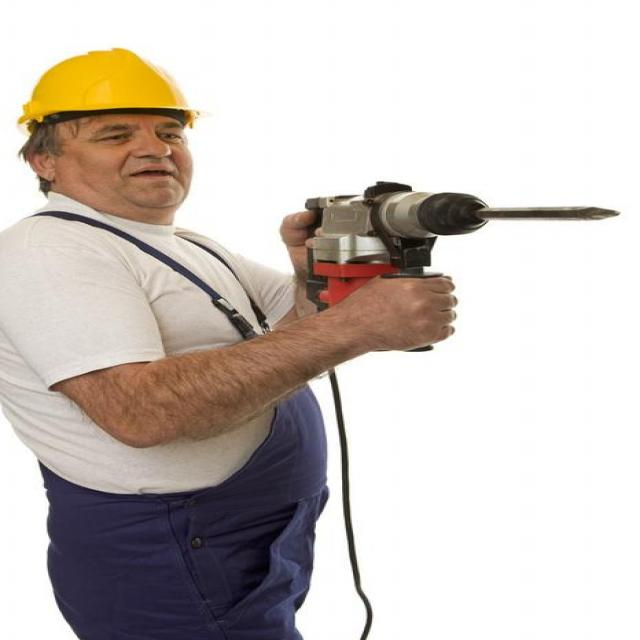Safety-Helmet: (14, 44, 203, 130)
